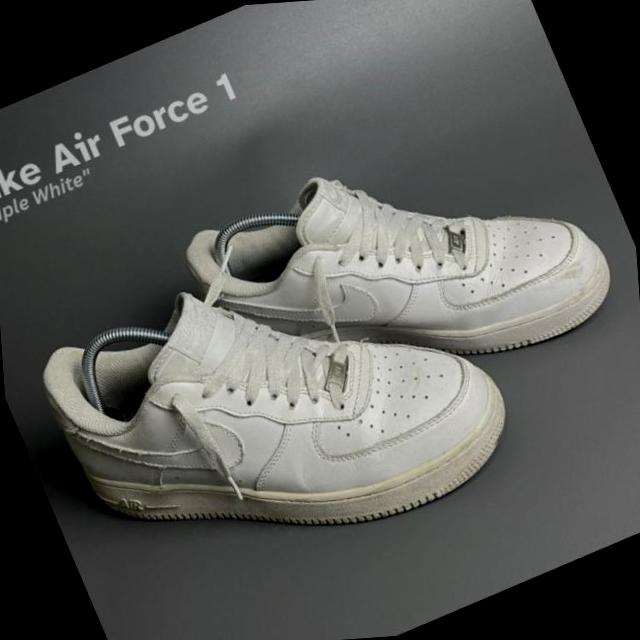nike_fake_airforce: (0, 185, 544, 640), (142, 77, 640, 479)
